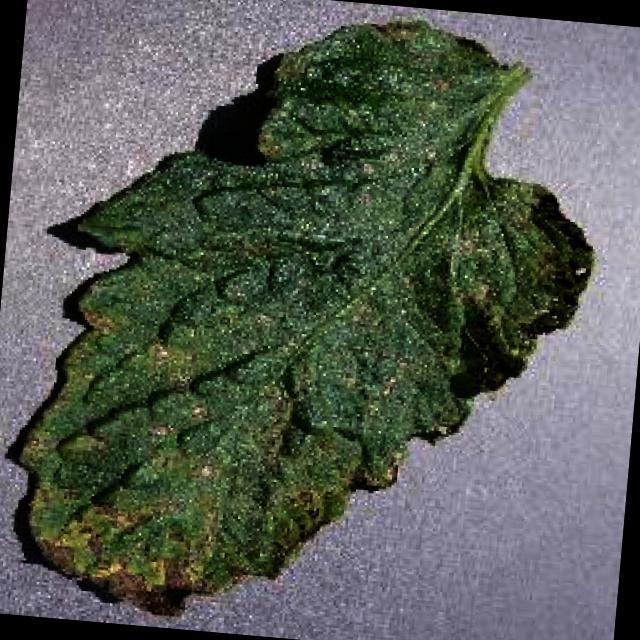Tomato Septoria spot leaf: (2, 0, 608, 640)
